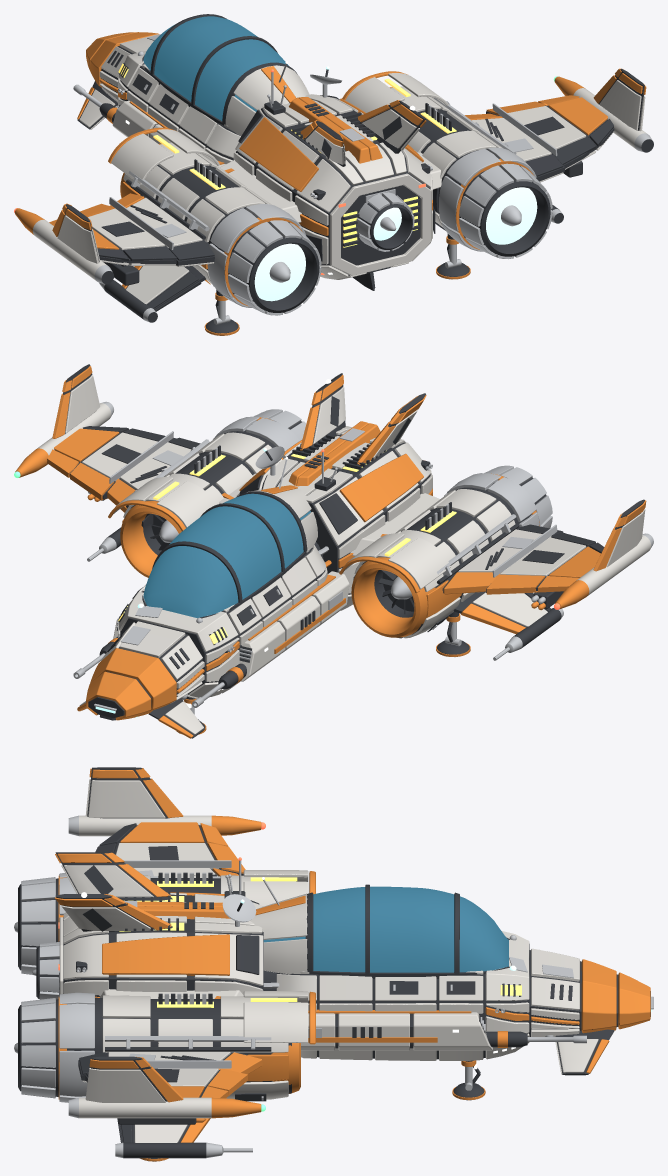
Rendered from ship.glb.
3 views of the same model, one above another, from view 1: azimuth 30°, elevation 25°; view 2: azimuth 150°, elevation 25°; view 3: azimuth 270°, elevation 25° (orthographic). The views are drawn at different scales.
Parts seen in each view (by area): view 1: Body, CanopyGlass, EngineGlowR, EngineGlowL, CanopyFrame, GearLeft_Leg, GearRight_Leg, EngineGlowC; view 2: Body, CanopyGlass, CanopyFrame, GearLeft_Leg; view 3: Body, CanopyGlass, CanopyFrame, GearFront_Leg.
Boxes of the visible parts, x1=… form: Body: x1=14, y1=32, x2=653, y2=322; CanopyGlass: x1=143, y1=16, x2=288, y2=120; EngineGlowR: x1=486, y1=187, x2=537, y2=244; EngineGlowL: x1=254, y1=243, x2=305, y2=301; CanopyFrame: x1=142, y1=14, x2=297, y2=125; GearLeft_Leg: x1=204, y1=290, x2=239, y2=335; GearRight_Leg: x1=436, y1=233, x2=470, y2=279; EngineGlowC: x1=373, y1=207, x2=401, y2=240; Body: x1=14, y1=364, x2=653, y2=738; CanopyGlass: x1=143, y1=493, x2=310, y2=618; CanopyFrame: x1=142, y1=491, x2=307, y2=618; GearLeft_Leg: x1=436, y1=611, x2=470, y2=656; Body: x1=14, y1=767, x2=653, y2=1158; CanopyGlass: x1=263, y1=886, x2=508, y2=972; CanopyFrame: x1=305, y1=884, x2=509, y2=978; GearFront_Leg: x1=452, y1=1060, x2=485, y2=1100.
Size of the model in its own units: 13.36 by 4.74 by 12.31.
